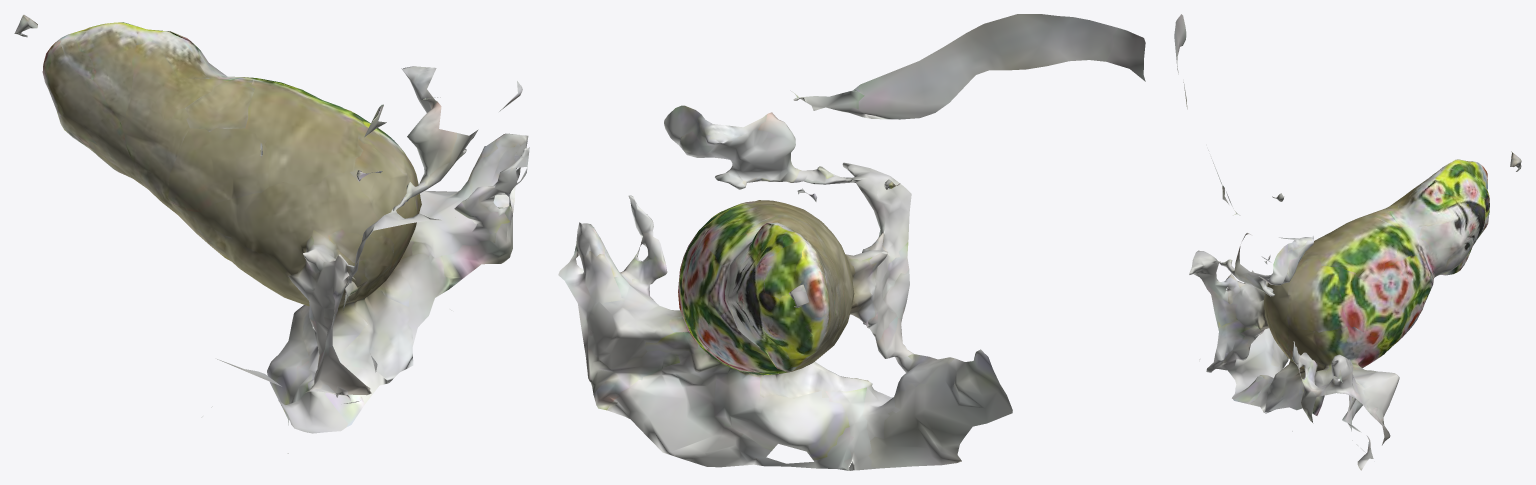
Rendered from hall.glb.
3 renders of one model, left to right at view 1: azimuth 30°, elevation 25°; view 2: azimuth 150°, elevation 25°; view 3: azimuth 270°, elevation 25°, orthographic. The views are drawn at different scales.
Bounding box in the file's own units: 2.03 × 1.78 × 1.68.
1 material, 1 textured.
